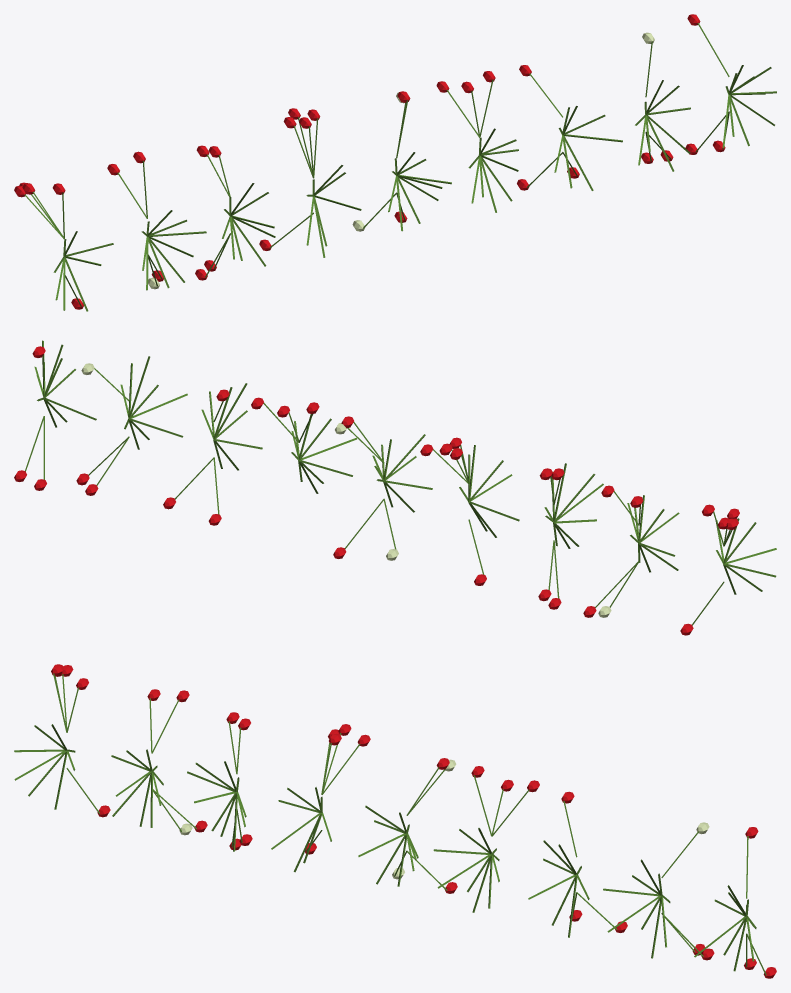
Rendered from r0c4_rest.obj.
The picture shows the model from 3 angles, top to bottom: view 1: azimuth 30°, elevation 25°; view 2: azimuth 150°, elevation 25°; view 3: azimuth 330°, elevation 25°; orthographic projection. The views are drawn at different scales.
Visible parts, largest first — view 1: r0c4_rest; view 2: r0c4_rest; view 3: r0c4_rest.
Part boxes in pixels (box(x1,y1,x2,y2)): r0c4_rest: box(14, 14, 776, 311); r0c4_rest: box(14, 340, 776, 635); r0c4_rest: box(14, 664, 776, 978).
Bounding box in the file's own units: 2.18 × 0.4051 × 0.2578.
